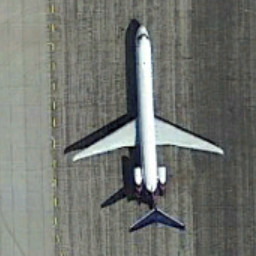Airplane: (65, 14, 231, 243)
